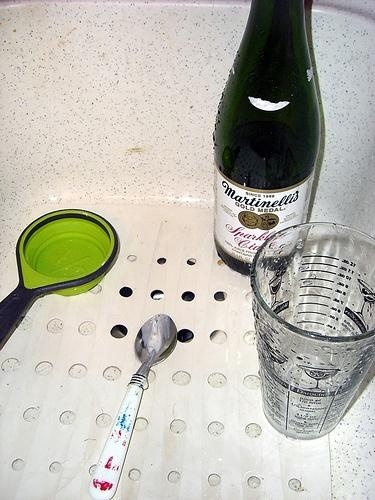bottle: (214, 2, 327, 276)
